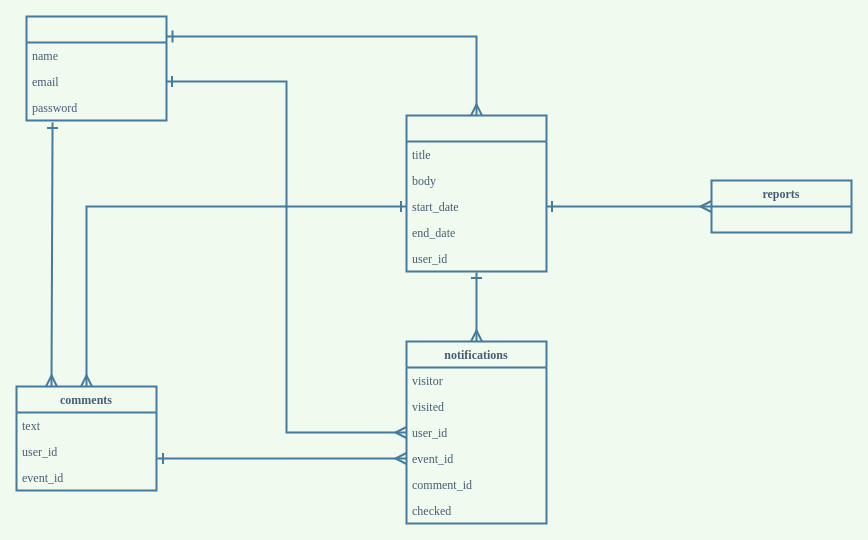
The diagram is 868 pixels wide and 540 high, and some of its shapes have lost their labels. The box of each missing label's shape, as (x1, y1, x2, y2) in pixels:
events: (405, 114, 547, 272)
users: (25, 15, 167, 121)
